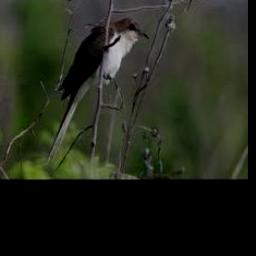Cuckoo: (46, 16, 149, 165)
